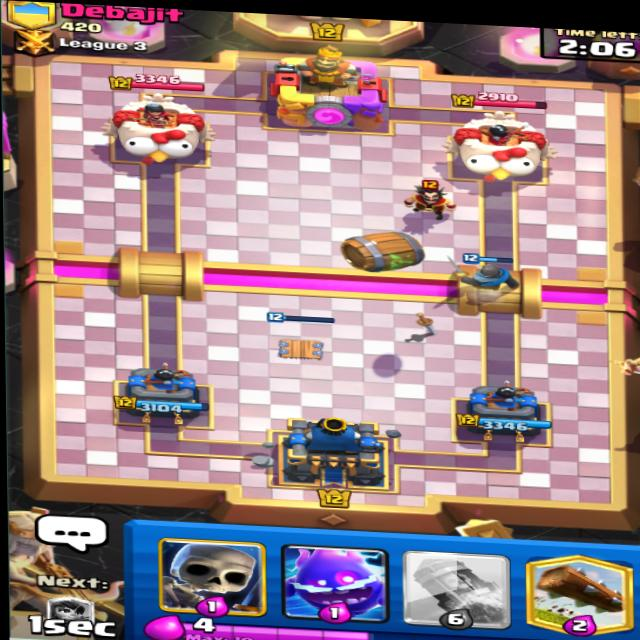electro-wizard: (394, 175, 457, 224)
